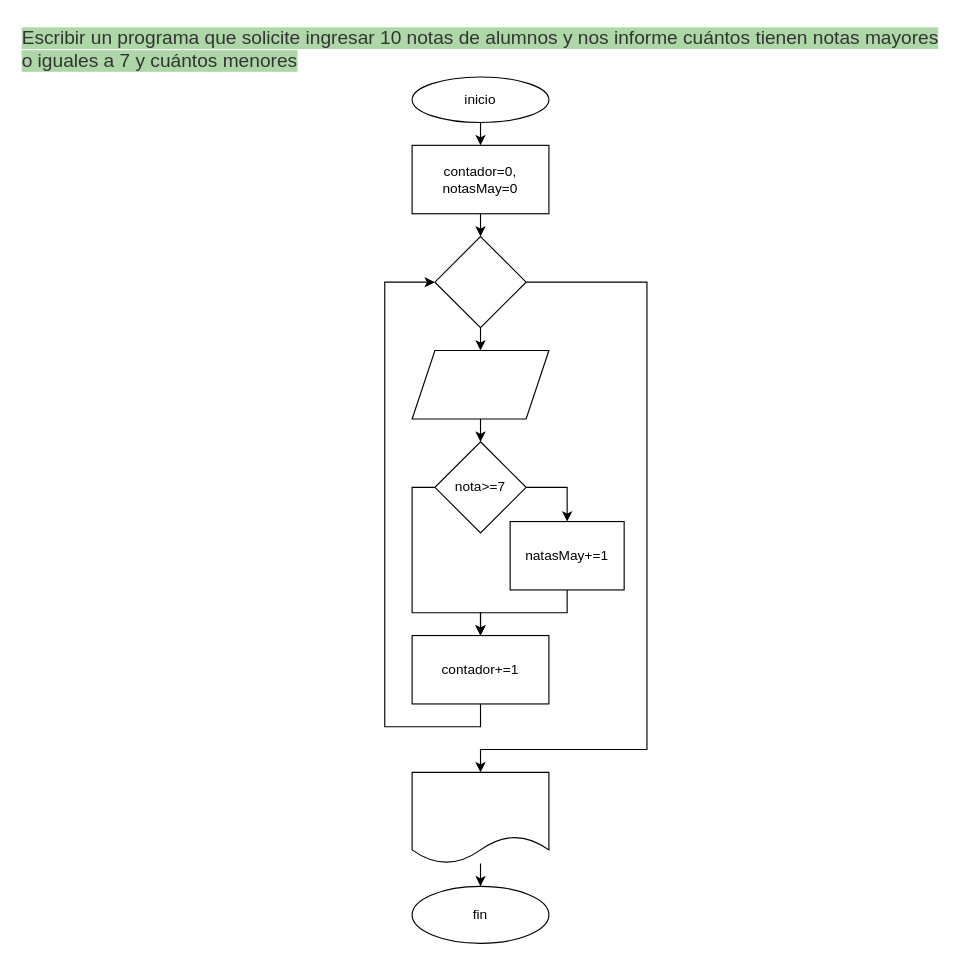
This 962x963 diagram has some shape labels left out. The shapes that lost their labels are listed below. From the top down, each one's centre as x and y in pixels, then its label:
At (480,281): "contador<10".
At (480,384): "nota".
At (480,817): "notasMay".
